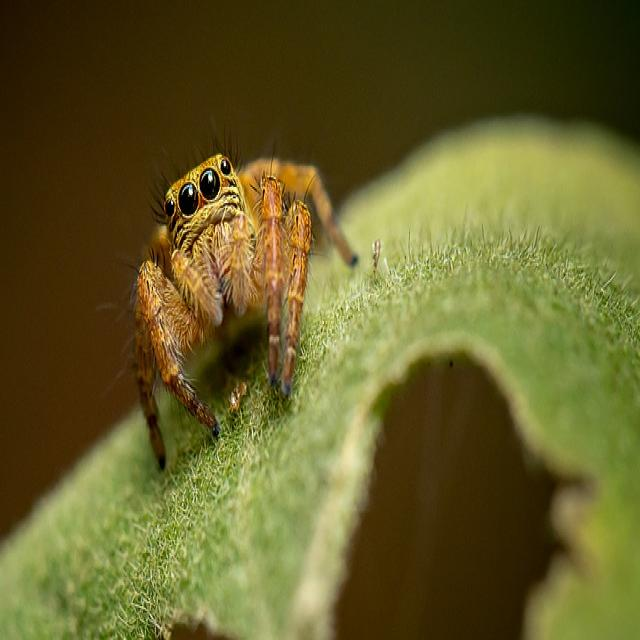spyder: (135, 153, 358, 466)
